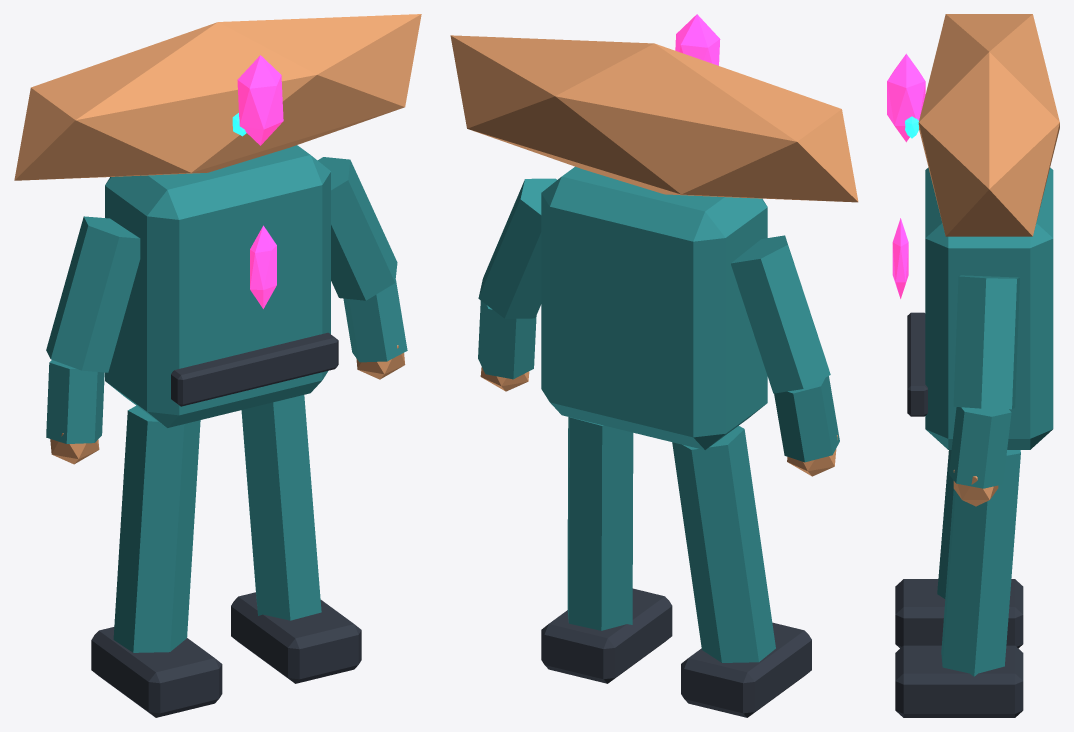
The model's file is npcs_004_seed11.glb.
The picture shows the model from 3 angles, left to right: view 1: azimuth 30°, elevation 25°; view 2: azimuth 150°, elevation 25°; view 3: azimuth 270°, elevation 25°; orthographic projection. The views are drawn at different scales.
Parts seen in each view (by area): view 1: npcs_004_seed11; view 2: npcs_004_seed11; view 3: npcs_004_seed11.
Part boxes in pixels (x1=…): npcs_004_seed11: x1=14, y1=14, x2=421, y2=717; npcs_004_seed11: x1=450, y1=14, x2=858, y2=717; npcs_004_seed11: x1=887, y1=14, x2=1059, y2=717.
Bounding box in the file's own units: 1.38 × 2.06 × 0.5187.
